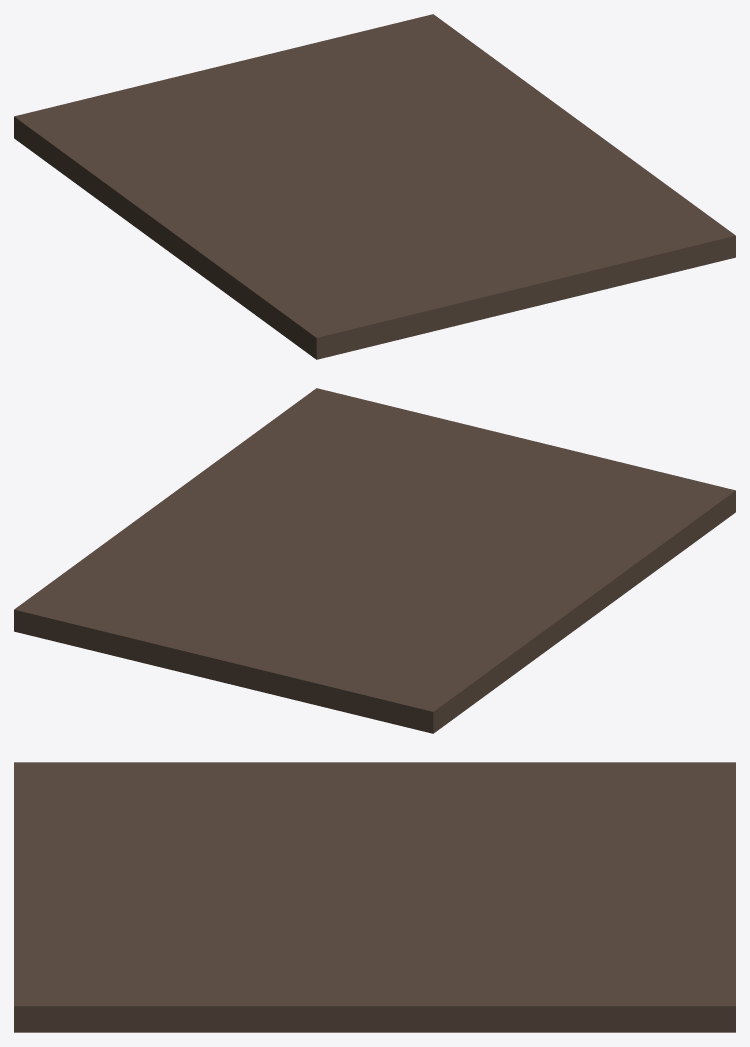
File: floorChecker.fbx
3 views of the same model, one above another, from view 1: azimuth 30°, elevation 25°; view 2: azimuth 150°, elevation 25°; view 3: azimuth 270°, elevation 25° (orthographic). The views are drawn at different scales.
Parts seen in each view (by area): view 1: floorChecker; view 2: floorChecker; view 3: floorChecker.
Boxes of the visible parts, x1,y1,x2,y2 form: floorChecker: [14, 14, 735, 359]; floorChecker: [14, 388, 735, 733]; floorChecker: [14, 762, 735, 1032].
Bounding box in the file's own units: 400 × 20 × 500.
